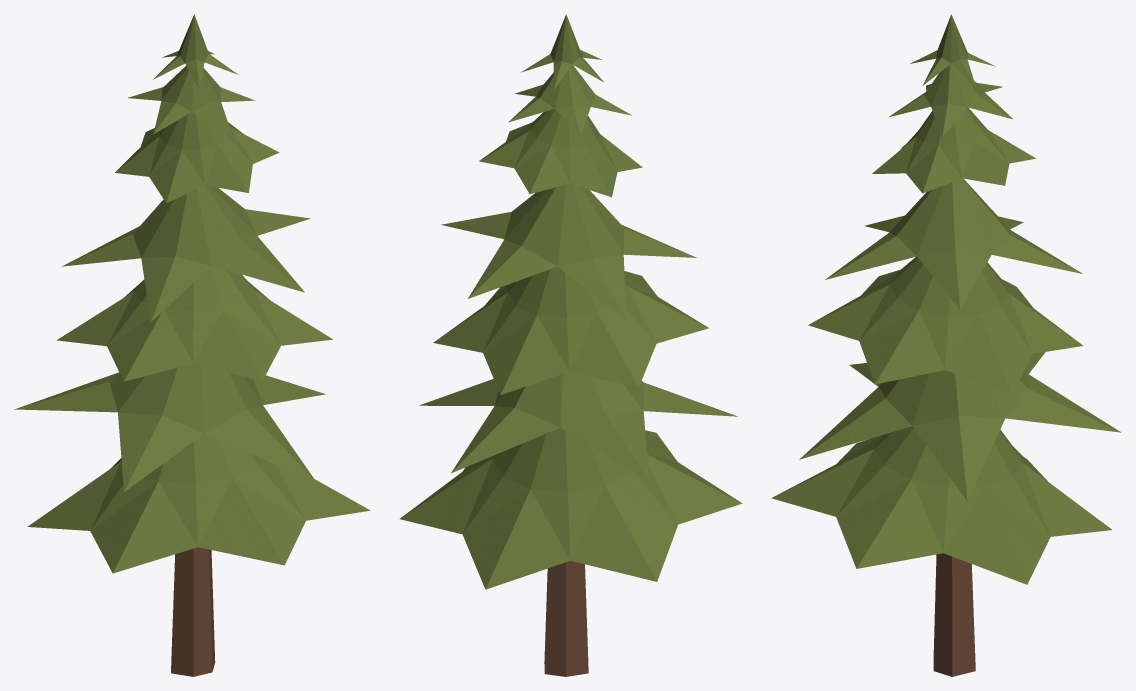
The model's file is Tree_1_TD.fbx.
3 renders of one model, left to right at view 1: azimuth 30°, elevation 25°; view 2: azimuth 150°, elevation 25°; view 3: azimuth 270°, elevation 25°, orthographic.
Parts seen in each view (by area): view 1: polySurface10338; view 2: polySurface10338; view 3: polySurface10338.
Part boxes in pixels (x1,y1,x2,y2): polySurface10338: [14, 14, 370, 676]; polySurface10338: [400, 14, 742, 676]; polySurface10338: [771, 14, 1121, 676].
Bounding box in the file's own units: 131 × 302 × 147.
